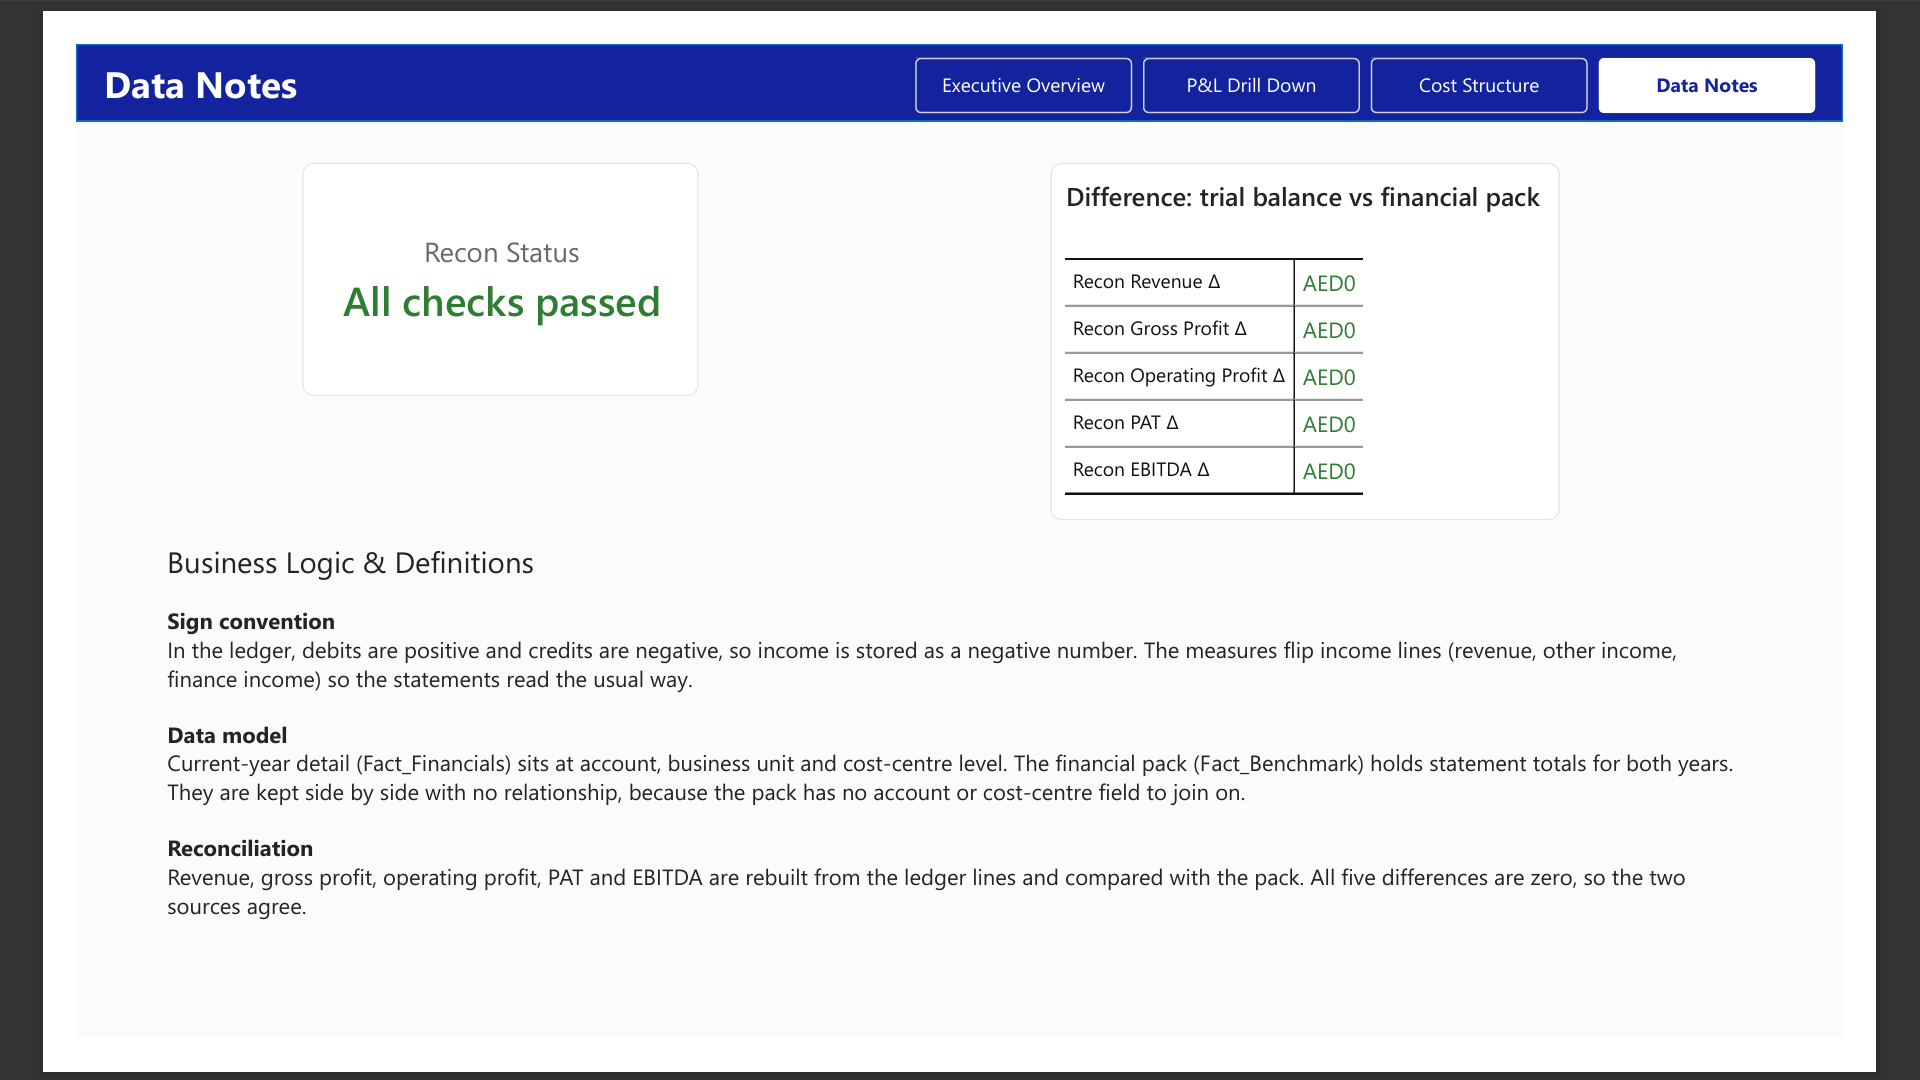

The page's visual inventory and layout, read from the dashboard file:
{"tool":"powerbi","page":{"name":"Data Notes","canvas":[1280,720],"ordinal":4},"visuals":[{"type":"cardVisual","fields":{"Data":["_Measures.Recon Status"]},"box":[164.3,86.2,286.3,169.2],"z":0},{"type":"pivotTable","title":"Difference: trial balance vs financial pack","fields":{"Values":["_Measures.Recon Revenue Δ","_Measures.Recon Gross Profit Δ","_Measures.Recon Operating Profit Δ","_Measures.Recon PAT Δ","_Measures.Recon EBITDA Δ"]},"box":[705.9,86.2,369.2,258.6],"z":1000},{"type":"textbox","box":[66,360,1148,338],"z":2000},{"type":"shape","title":"Executive Financial Overview","box":[0,0,1280,56],"z":3000},{"type":"pageNavigator","box":[608.3,10,651.7,40],"z":3001},{"type":"textbox","box":[20,10,575,40],"z":3002}]}

Visuals, with their boxes in screenshot pixels (x1, y1, x2, y2), scaled from the page's 1280x720 canvas onto the 1920x1080 screenshot:
cardVisual - _Measures.Recon Status: 246:129:676:383
"Difference: trial balance vs financial pack" pivotTable: 1059:129:1613:517
textbox: 99:540:1821:1047
"Executive Financial Overview" shape: 0:0:1919:84
pageNavigator: 912:15:1890:75
textbox: 30:15:892:75
